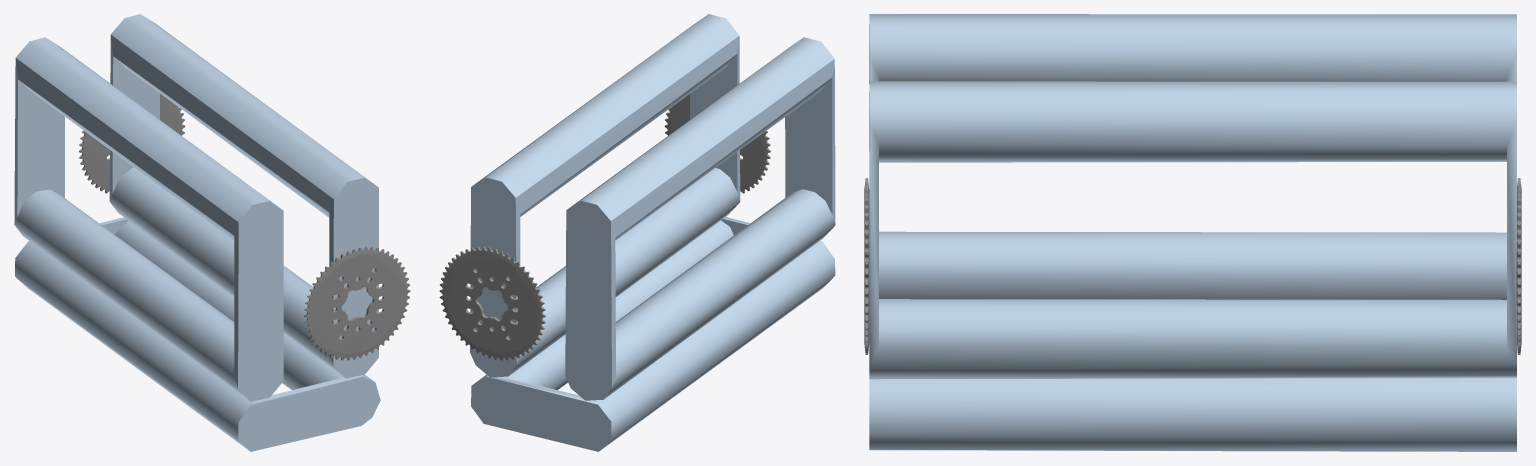
Rendered from Shooter.dae.
The picture shows the model from 3 angles, left to right: view 1: azimuth 30°, elevation 25°; view 2: azimuth 150°, elevation 25°; view 3: azimuth 270°, elevation 25°; orthographic projection. The views are drawn at different scales.
Parts seen in each view (by area): view 1: Shooter; view 2: Shooter; view 3: Shooter.
Boxes of the visible parts, x1,y1,x2,y2 form: Shooter: (14,14,410,451); Shooter: (439,14,835,451); Shooter: (864,14,1521,451).
Size of the model in its own units: 0.1834 by 0.4191 by 0.2532.
